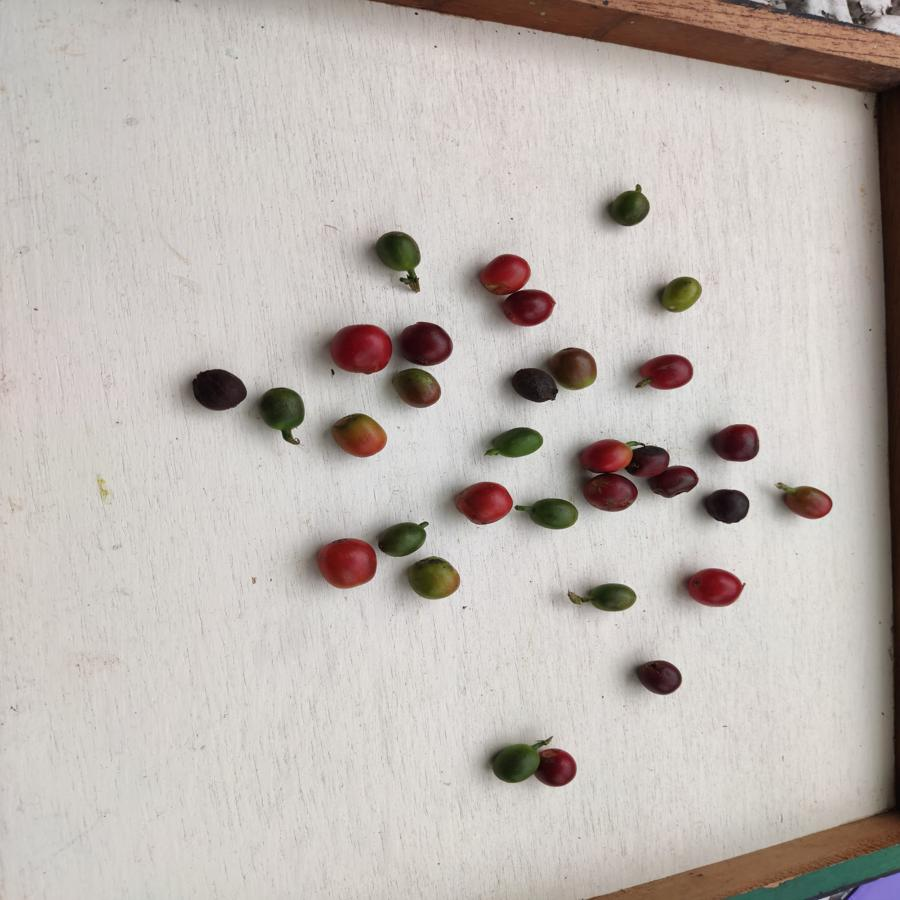Inmaduro: (255, 385, 308, 432), (371, 227, 423, 273), (524, 494, 582, 533), (488, 743, 541, 783), (579, 582, 638, 617), (489, 425, 545, 461), (376, 517, 425, 557), (607, 190, 652, 228)
Maduro: (314, 535, 381, 590), (325, 323, 393, 376), (684, 562, 746, 613), (454, 480, 515, 525), (577, 435, 633, 475), (479, 254, 532, 291)
Pinton: (331, 412, 390, 462), (405, 555, 462, 602), (553, 345, 605, 390), (391, 366, 441, 409), (780, 483, 833, 522), (660, 274, 705, 312)
Sobremaduro: (396, 318, 454, 367), (186, 367, 249, 411), (637, 353, 697, 393), (709, 423, 763, 465), (501, 289, 556, 330), (582, 473, 640, 511), (703, 488, 752, 529), (508, 367, 560, 405), (633, 657, 684, 695), (646, 463, 697, 499), (537, 747, 577, 788), (631, 441, 669, 482)
